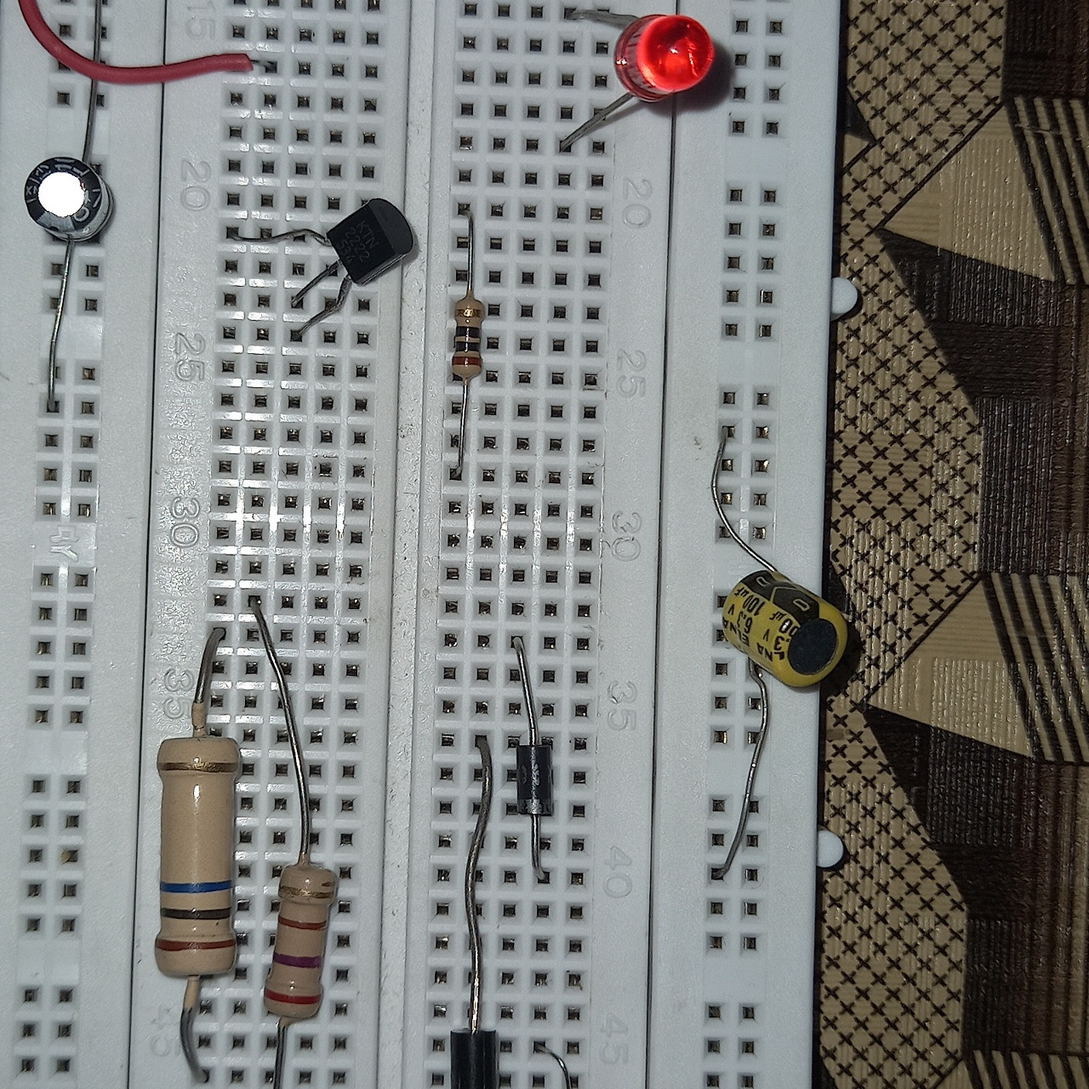capacitor: (722, 569, 849, 692), (25, 155, 114, 242)
resistor: (158, 736, 237, 975), (269, 860, 337, 1016), (452, 294, 486, 379)
